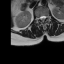CCS_normal: (41, 14, 43, 23)
LFS_normal: (45, 13, 47, 19)
LLS_normal: (43, 13, 45, 21)
RFS_normal: (37, 14, 39, 21)
RLS_normal: (39, 14, 41, 21)
